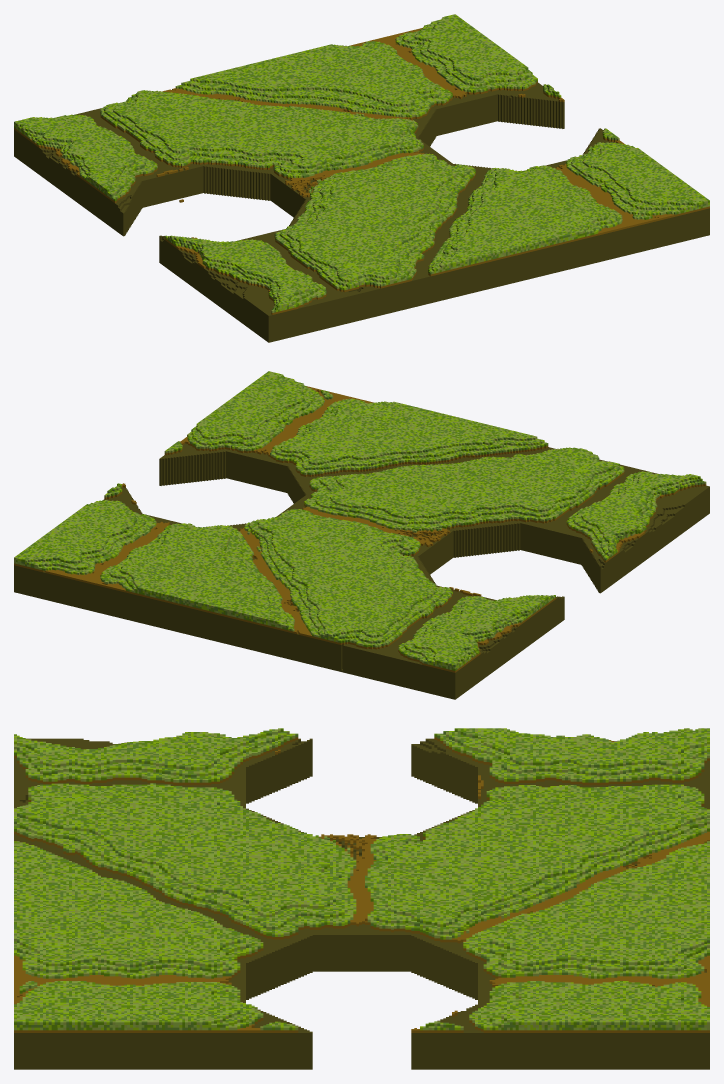
Rendered from Tab C4-0.obj.
The picture shows the model from 3 angles, top to bottom: view 1: azimuth 30°, elevation 25°; view 2: azimuth 150°, elevation 25°; view 3: azimuth 270°, elevation 25°; orthographic projection. The views are drawn at different scales.
Bounding box in the file's own units: 24 × 1.8 × 24.
1 material, 1 textured.
